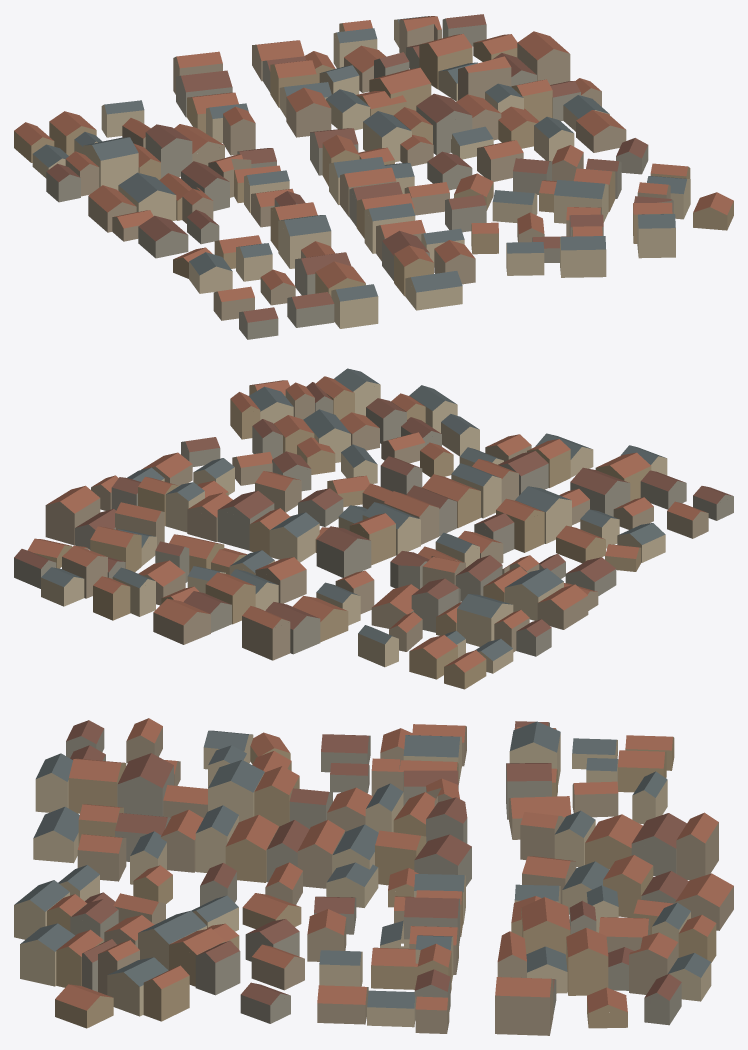
3 views of the same model, one above another, from view 1: azimuth 30°, elevation 25°; view 2: azimuth 150°, elevation 25°; view 3: azimuth 270°, elevation 25° (orthographic). The views are drawn at different scales.
Parts seen in each view (by area): view 1: C_0_1; view 2: C_0_1; view 3: C_0_1.
Part boxes in pixels (x1,y1,x2,y2): C_0_1: (14, 14, 733, 339); C_0_1: (14, 368, 733, 689); C_0_1: (14, 718, 733, 1035).
Size of the model in its own units: 185 by 14.37 by 194.
